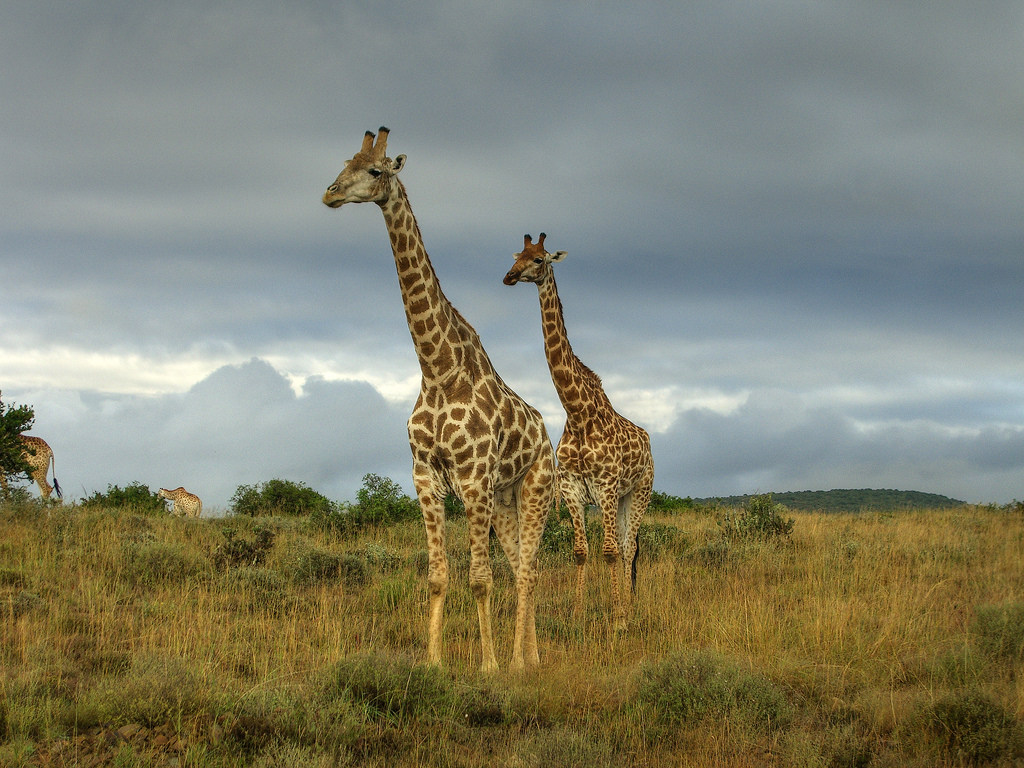giraffe: (317, 137, 556, 702), (481, 215, 728, 652)
